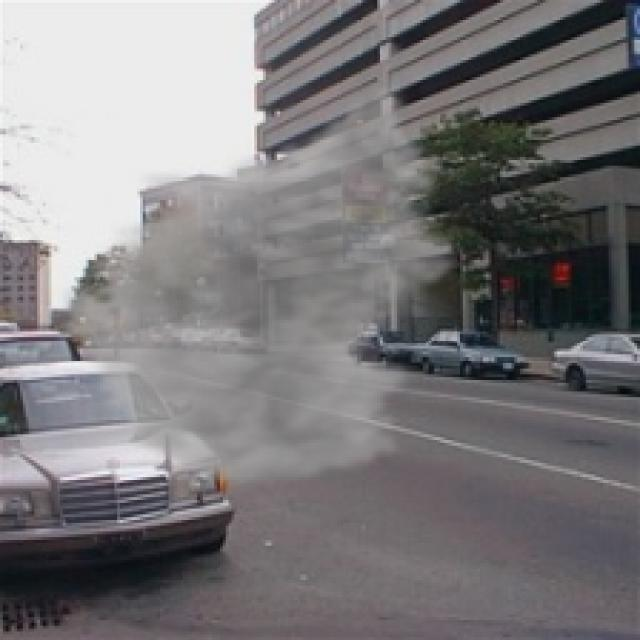smoke: (43, 80, 468, 491)
